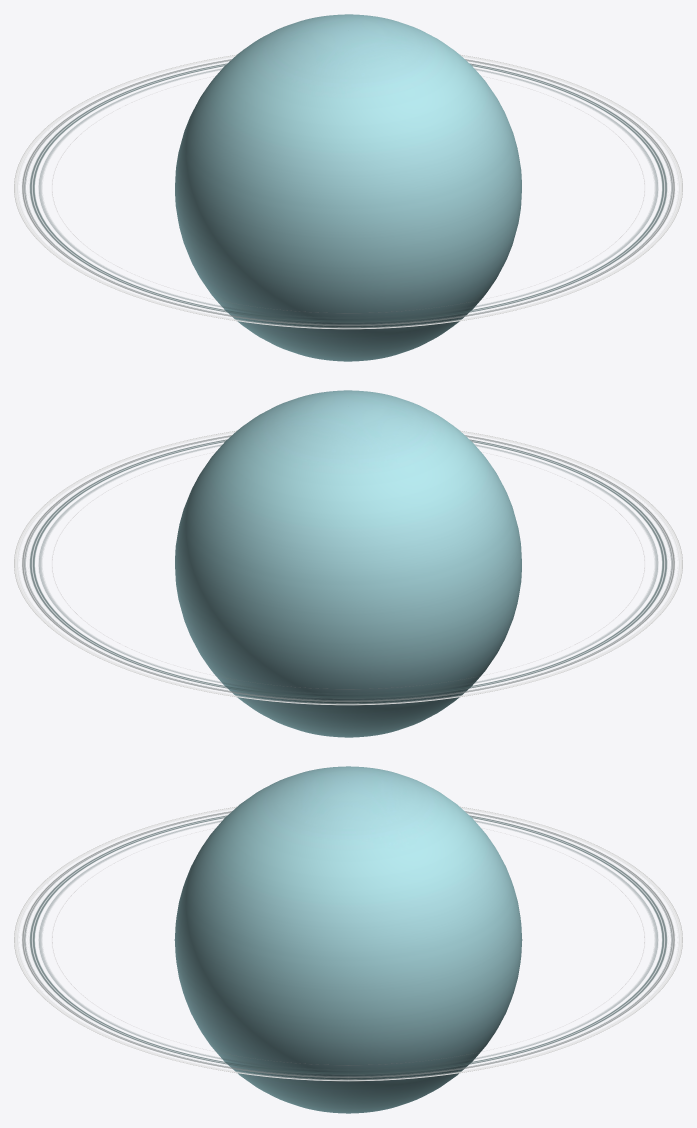
The model's file is ur_anus.glb.
3 views of the same model, one above another, from view 1: azimuth 30°, elevation 25°; view 2: azimuth 150°, elevation 25°; view 3: azimuth 270°, elevation 25° (orthographic).
Visible parts, largest first — view 1: Uranus; view 2: Uranus; view 3: Uranus.
Boxes of the visible parts, box(x1,y1,x2,y2) form: Uranus: box(14, 14, 682, 361); Uranus: box(14, 390, 682, 737); Uranus: box(14, 766, 682, 1113).
Bounding box in the file's own units: 9.77 × 5.07 × 9.77.
2 materials, 2 textured.
